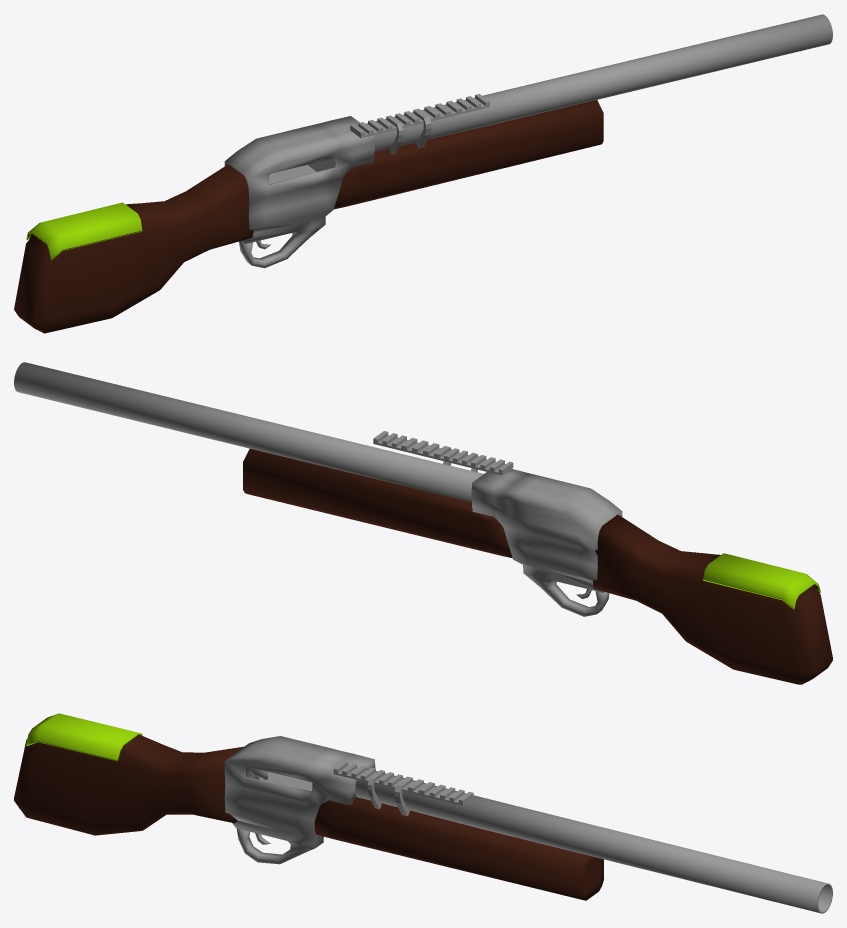
The model's file is Shotgun_SemiAuto_Remytun_Mk_02_FINAL.fbx.
3 views of the same model, one above another, from view 1: azimuth 30°, elevation 25°; view 2: azimuth 150°, elevation 25°; view 3: azimuth 330°, elevation 25° (orthographic).
Parts seen in each view (by area): view 1: Cube.001; view 2: Cube.001; view 3: Cube.001.
Boxes of the visible parts, box(x1,y1,x2,y2) form: Cube.001: box(14, 14, 832, 333); Cube.001: box(14, 362, 832, 684); Cube.001: box(14, 713, 832, 913).
Bounding box in the file's own units: 101 × 15.69 × 6.37.
